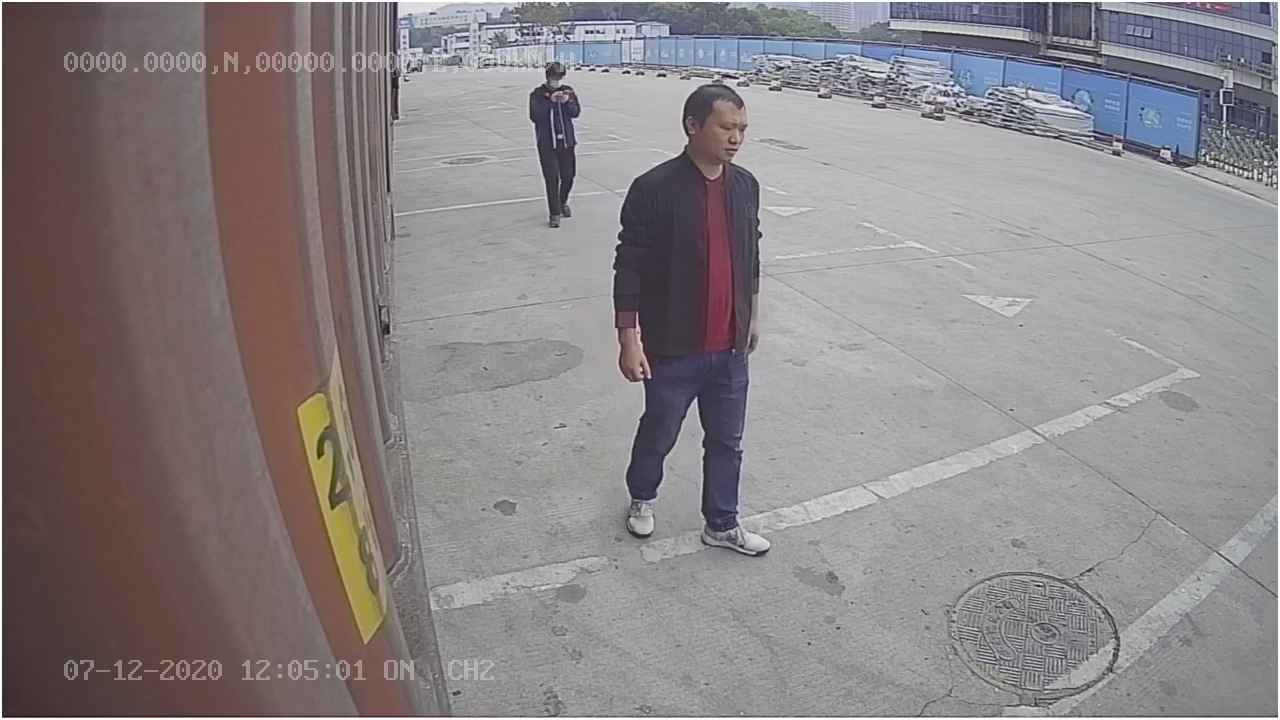person: (609, 82, 783, 557)
